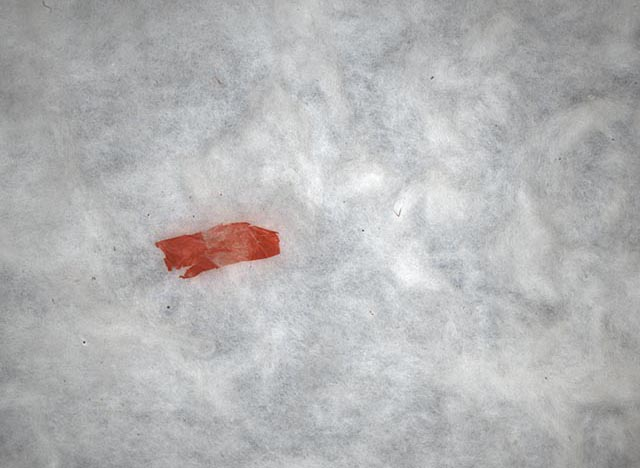plastic film: (154, 221, 281, 277)
